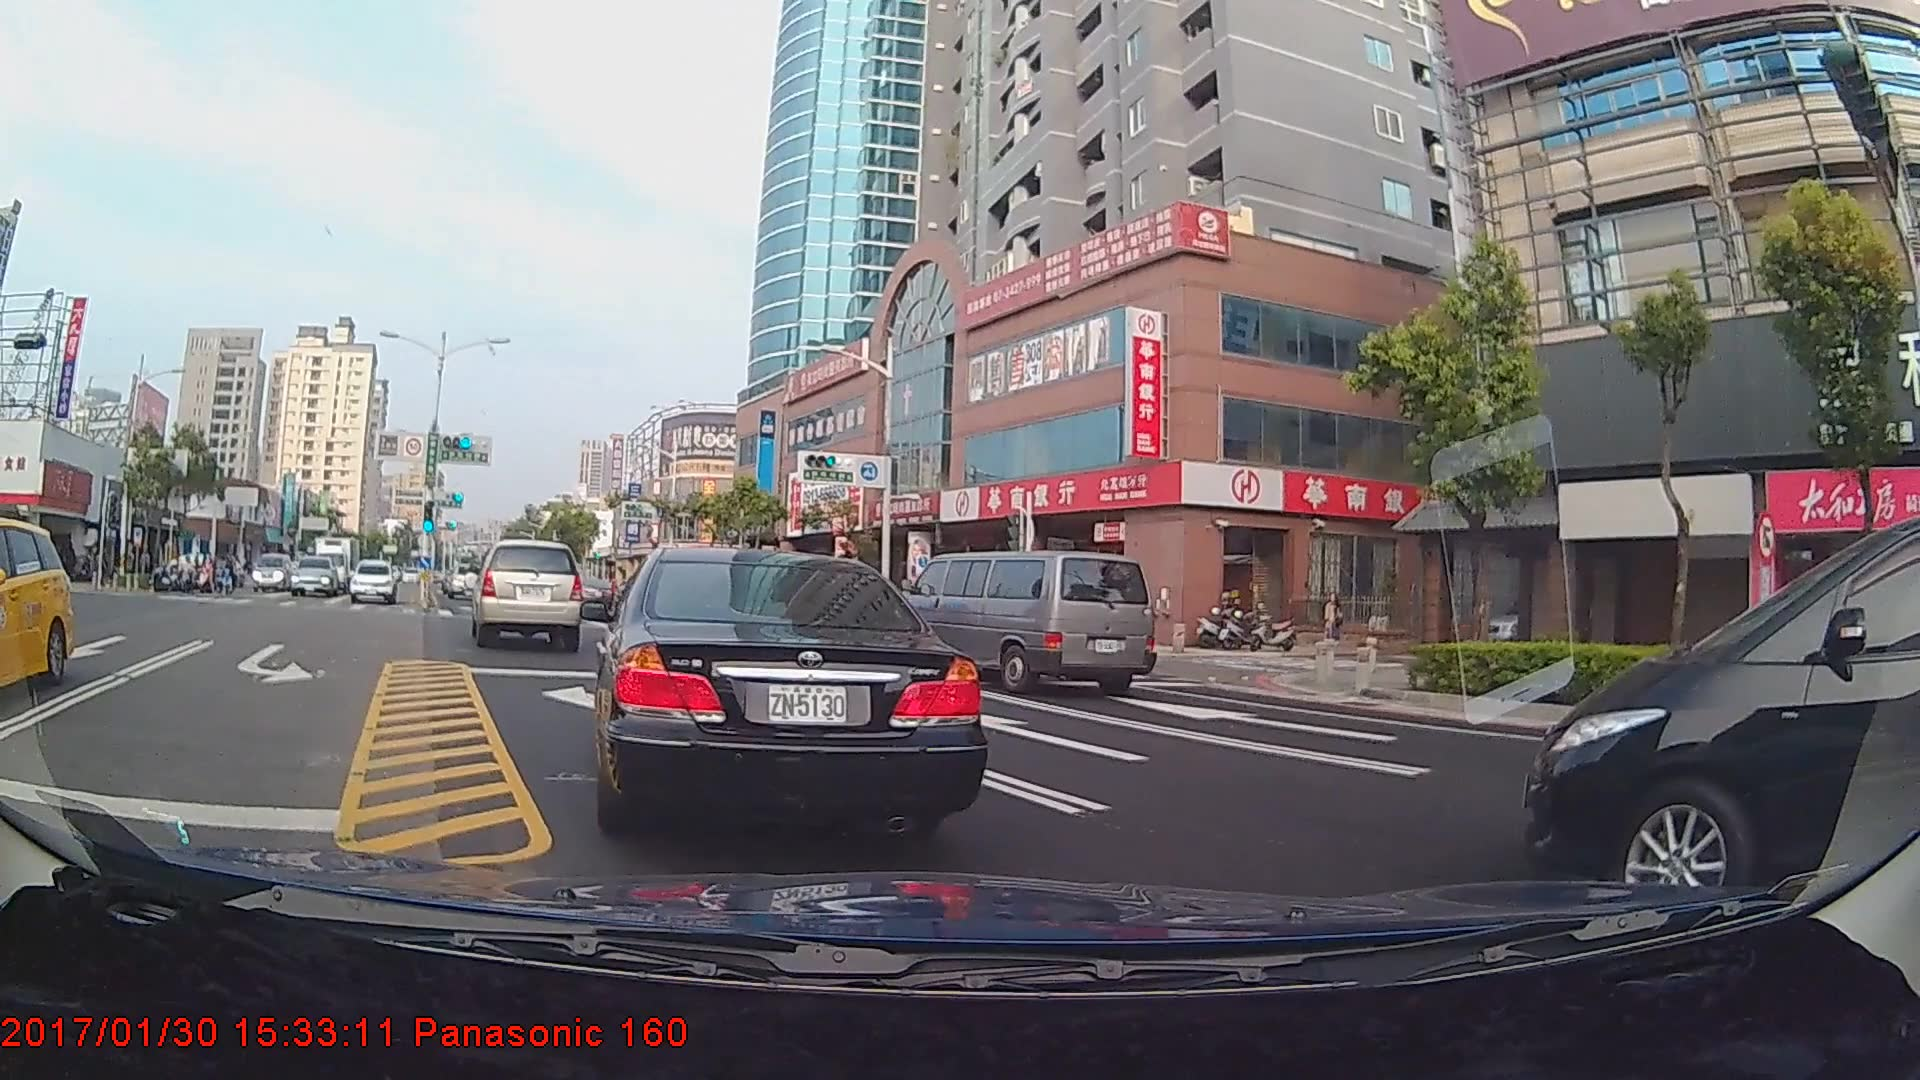pedestrian: (1317, 594, 1346, 658)
vehicle: (1497, 477, 1907, 898), (588, 538, 973, 837), (902, 550, 1155, 698), (0, 517, 72, 696), (472, 539, 585, 650), (313, 532, 367, 592), (350, 558, 397, 603), (290, 555, 340, 598), (444, 562, 479, 601), (251, 552, 289, 587)
